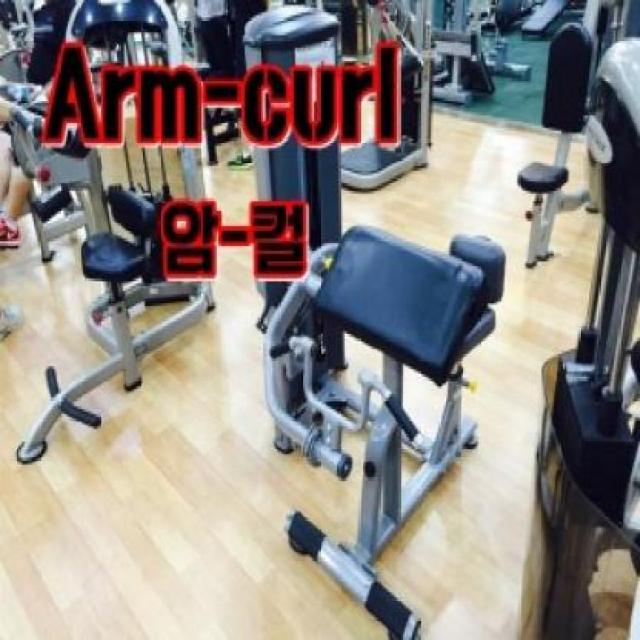arm curl machine: (266, 237, 506, 640)
